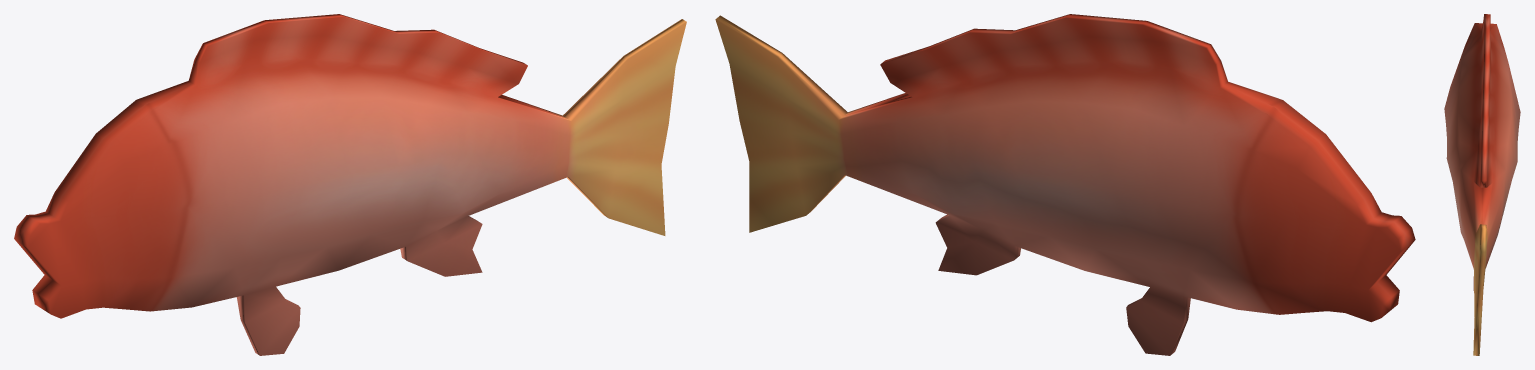
File: Fish.FBX
3 views of the same model, side by side, from view 1: azimuth 30°, elevation 25°; view 2: azimuth 150°, elevation 25°; view 3: azimuth 270°, elevation 25° (orthographic). The views are drawn at different scales.
Parts seen in each view (by area): view 1: w; view 2: w; view 3: w.
Part boxes in pixels (<box>): w: <box>14,14,686,355</box>; w: <box>715,14,1415,355</box>; w: <box>1444,14,1520,355</box>.
Bounding box in the file's own units: 168 × 78.62 × 25.04.
Materials: 1 (1 with a texture image).
